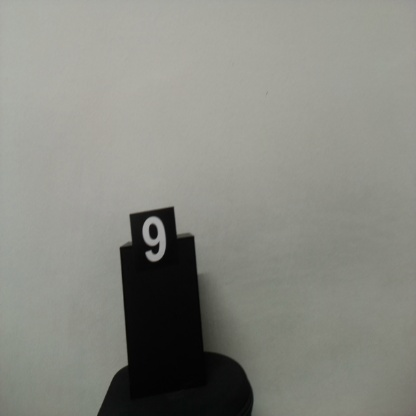id_9: (130, 214, 177, 280)
